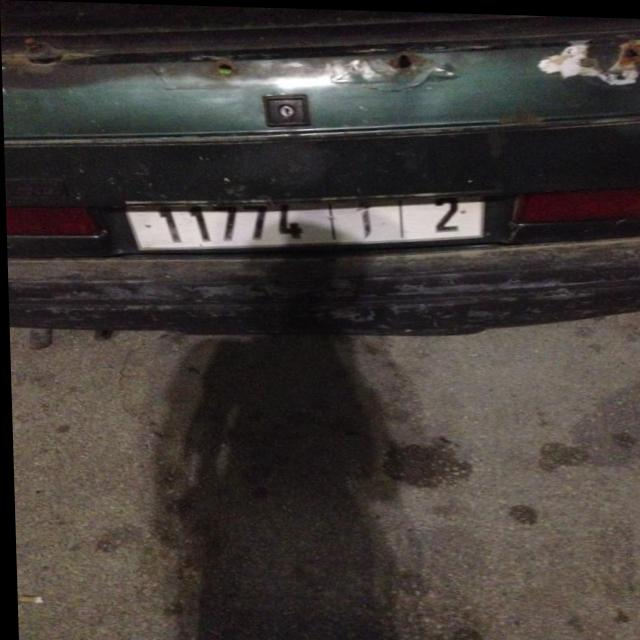License-Plate: (125, 197, 483, 249)
